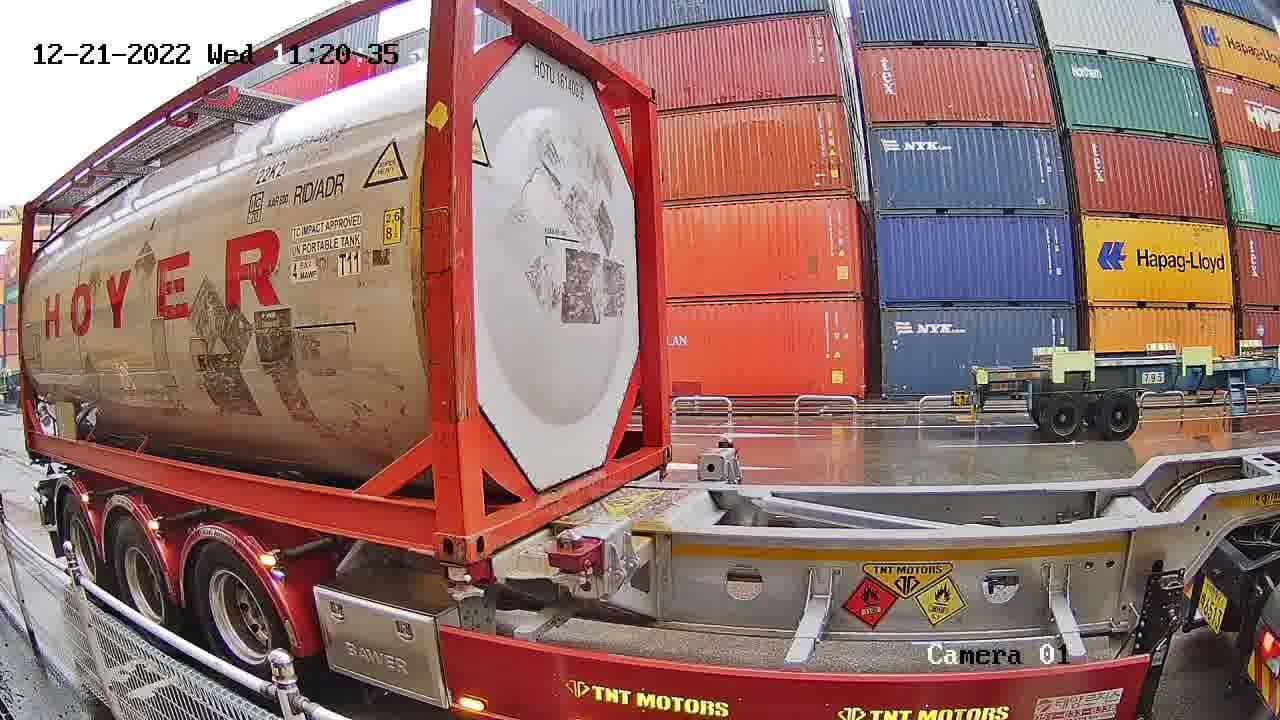Chassis: (469, 465, 667, 586)
Cone: (432, 561, 491, 603)
Hole_L: (462, 493, 515, 566)
Hole_R: (402, 503, 464, 566), (648, 429, 675, 472)
Tire: (197, 545, 284, 677), (113, 517, 174, 646), (62, 497, 105, 602)
